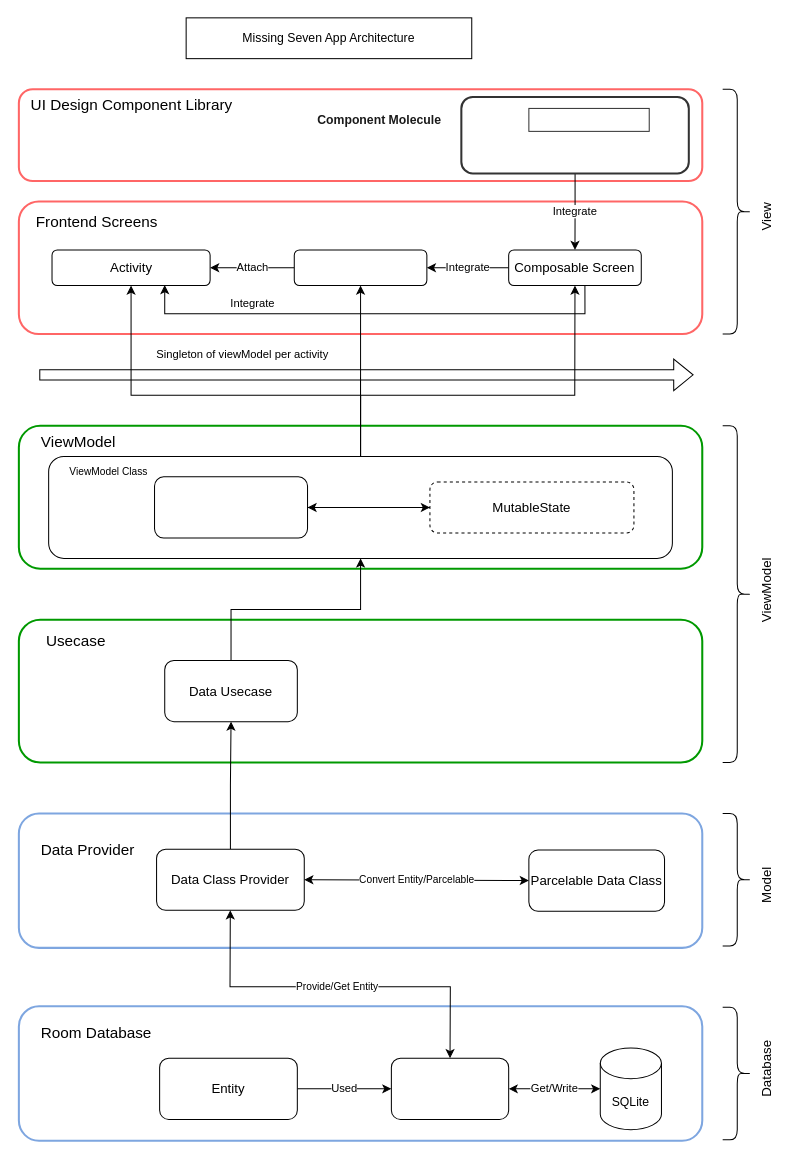
Image size: 796x1160. Some labels were removed from this diagram. Here are the shapes that lost their labels. From the top down, the box of each, then its label:
(528, 107, 649, 131): Component Atom
(293, 249, 427, 286): Fragment
(154, 476, 308, 538): UIStateChangeHandler
(390, 1057, 509, 1119): DAO
